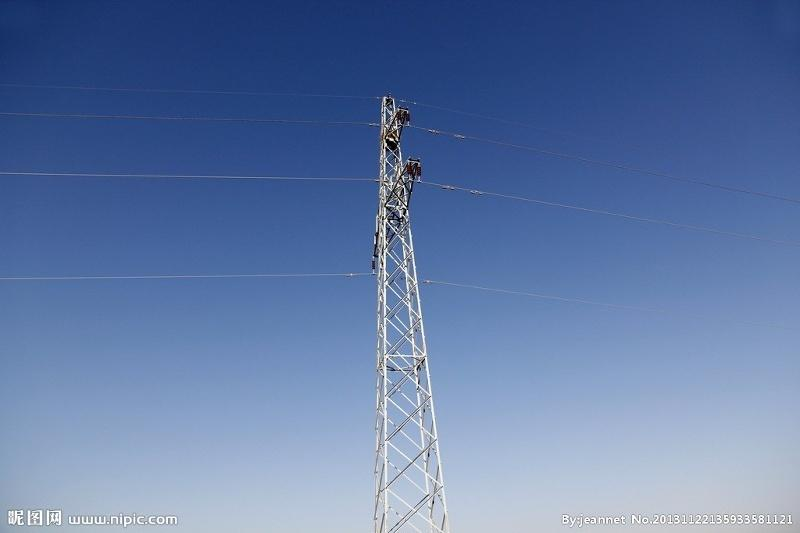power_tower: (338, 89, 462, 529)
